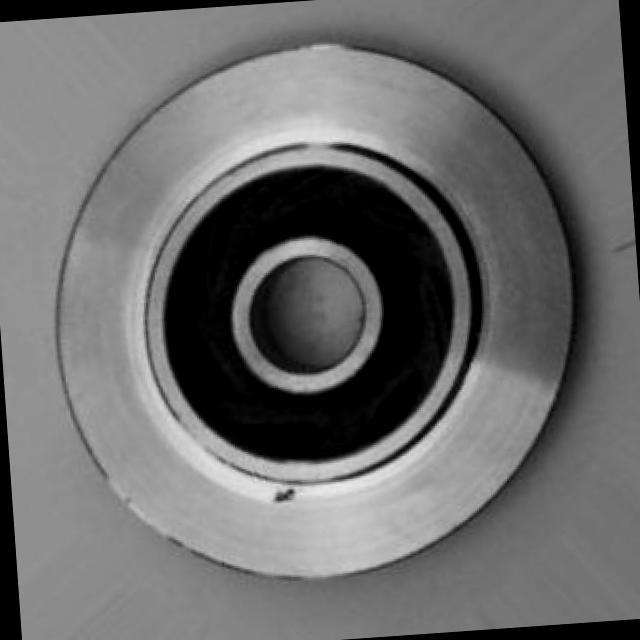Defect: (272, 484, 302, 506)
